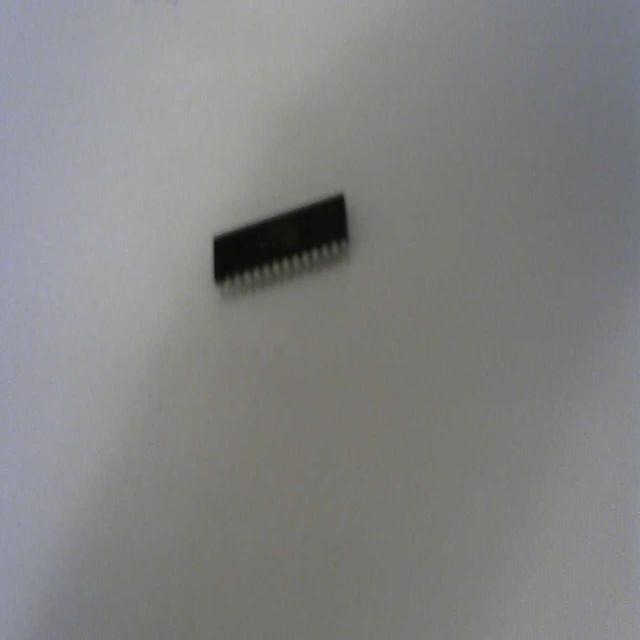atmega: (210, 186, 352, 300)
